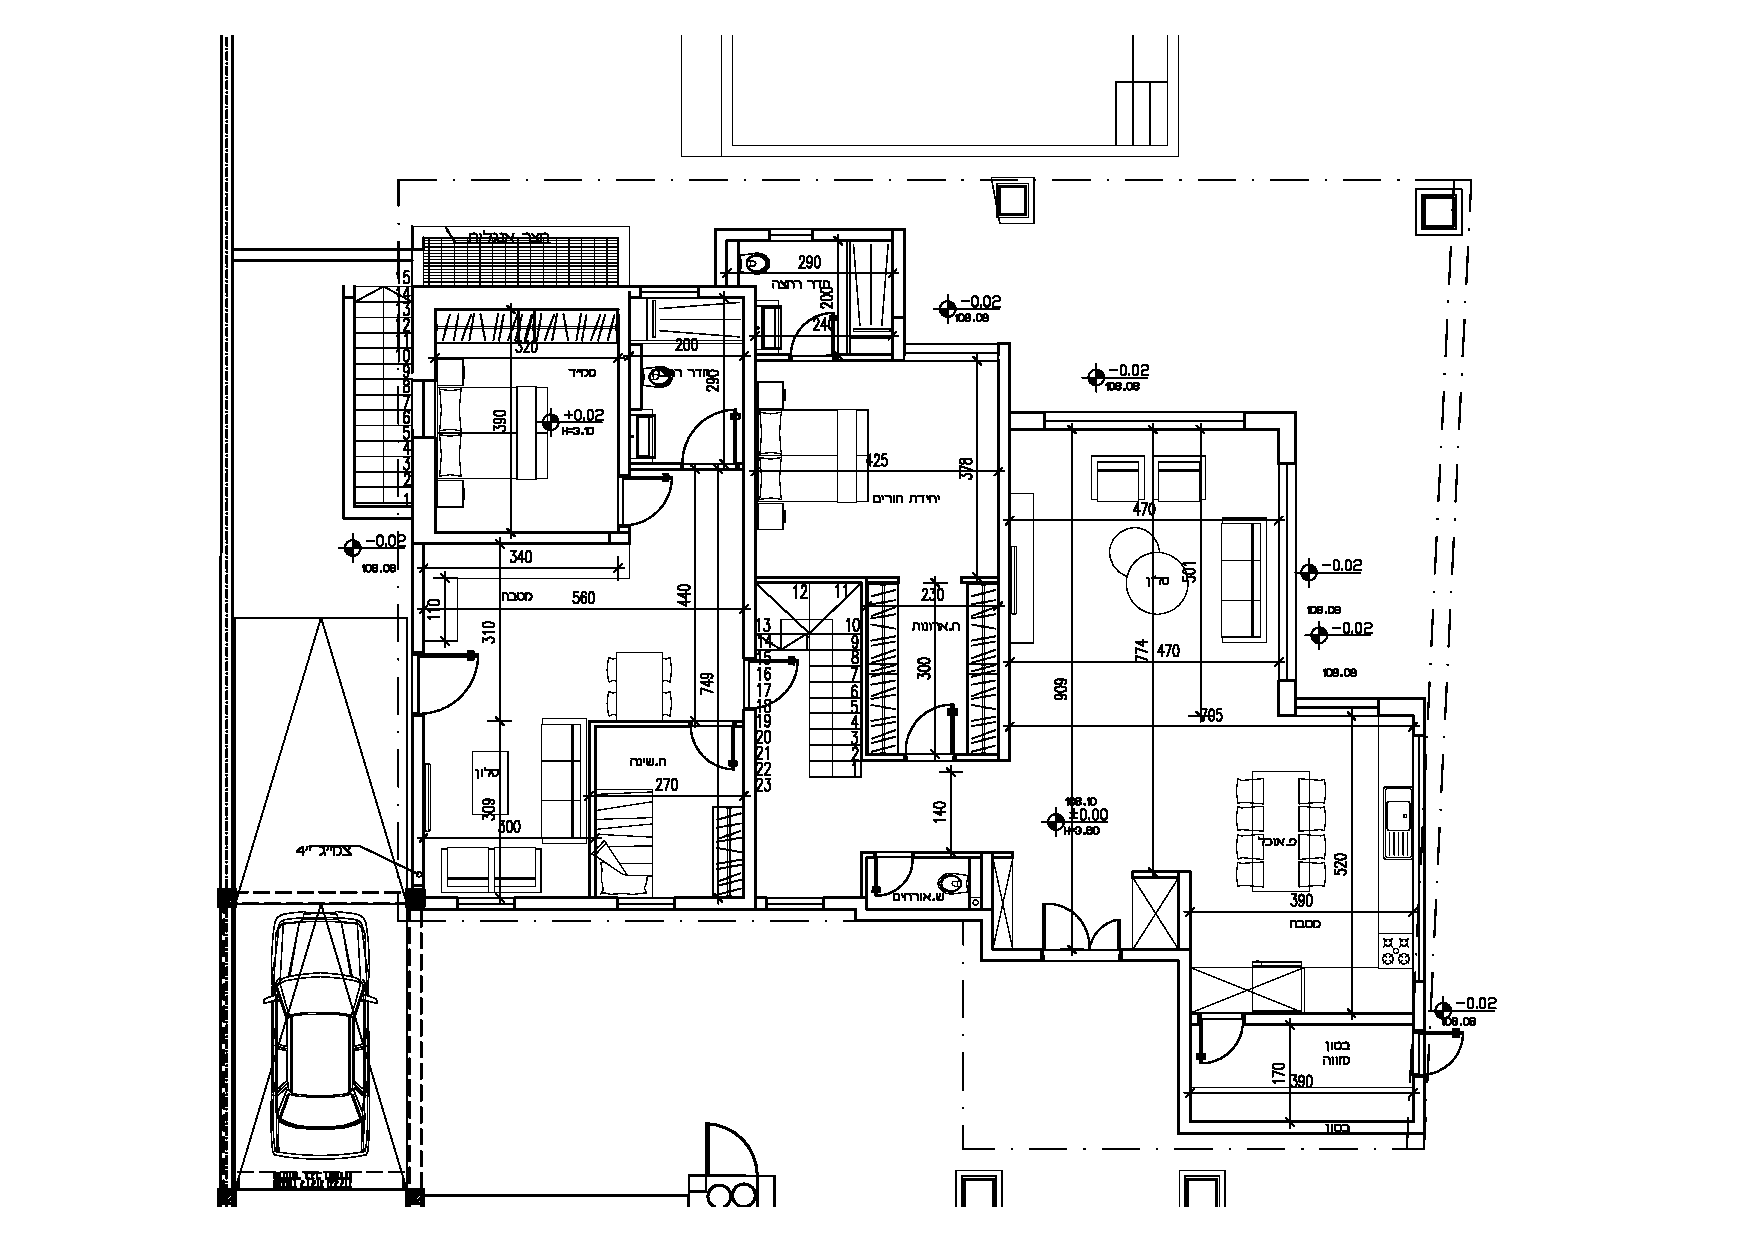door: (697, 1104, 764, 1173), (428, 648, 480, 721), (635, 470, 680, 531), (1197, 1027, 1245, 1074)
window: (1045, 411, 1245, 425), (769, 224, 813, 248), (769, 895, 824, 911), (620, 898, 678, 911)
